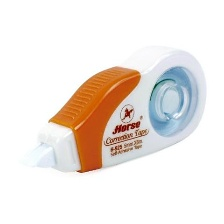correction_fluid: (18, 43, 208, 177)
